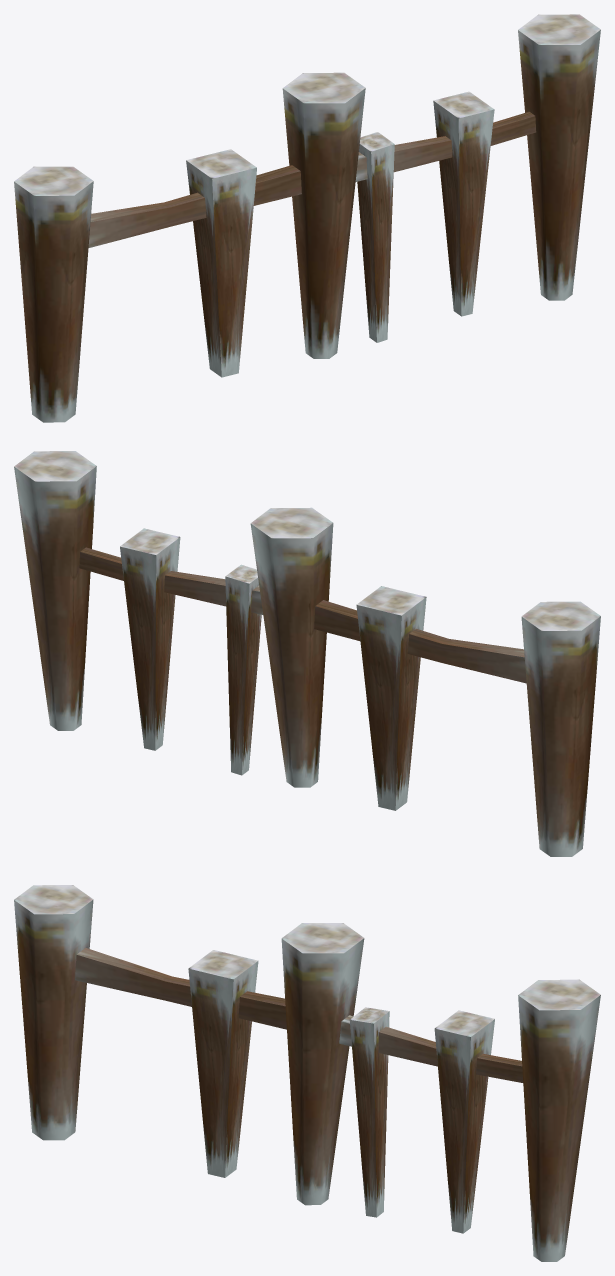
Rendered from h5_xuezhalan_c.FBX.
3 renders of one model, top to bottom at view 1: azimuth 30°, elevation 25°; view 2: azimuth 150°, elevation 25°; view 3: azimuth 330°, elevation 25°, orthographic.
Parts seen in each view (by area): view 1: h5_xuezhalan_c; view 2: h5_xuezhalan_c; view 3: h5_xuezhalan_c.
Part boxes in pixels (x1,y1,x2,y2): h5_xuezhalan_c: (14,14,600,422); h5_xuezhalan_c: (14,451,600,856); h5_xuezhalan_c: (14,885,600,1261).
Size of the model in its own units: 3.23 by 1.43 by 0.418.
